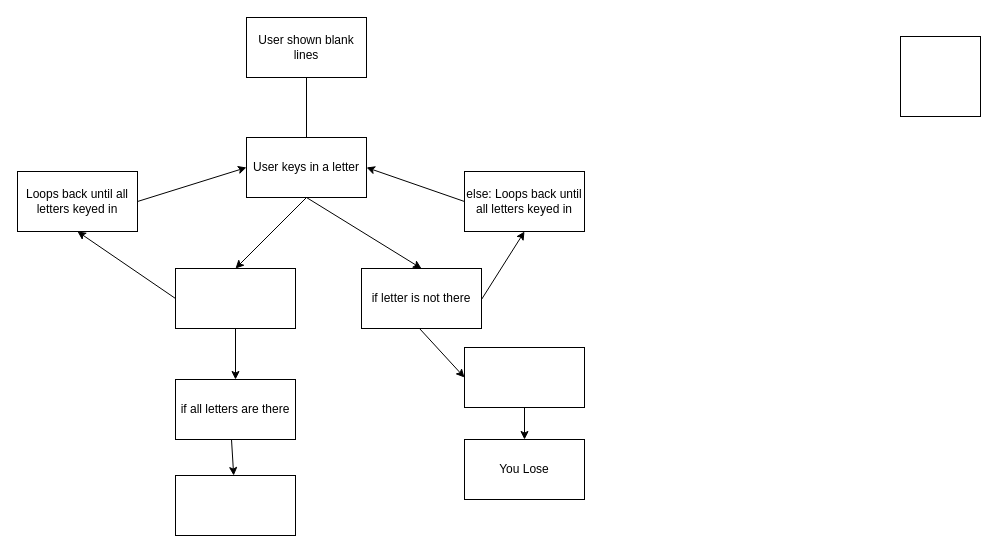
Image size: 998x553. Some labels were removed from this diagram. Here are the shapes that lost their labels. From the top down, the box of each, then its label:
(900, 36, 980, 116): after failing 9 times you die.
(174, 268, 296, 328): if letter is there
(464, 346, 584, 408): if after 9 times of letter not being there
(174, 474, 296, 536): You Win
